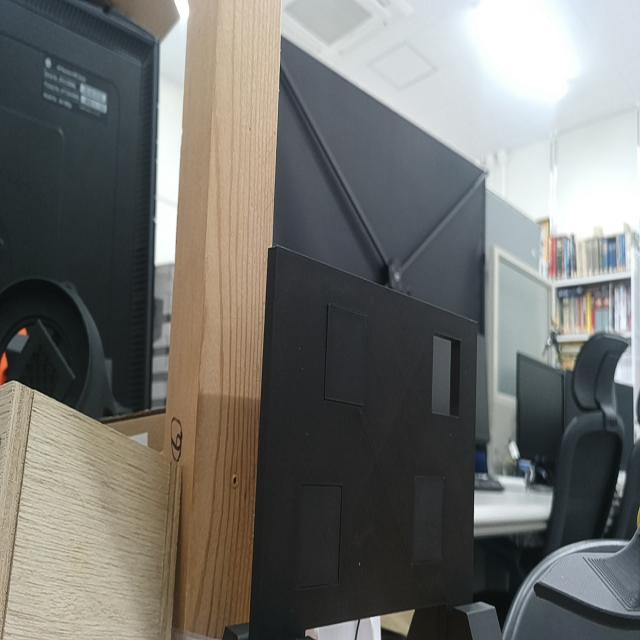Obstacle: (432, 333, 461, 417)
Wall: (256, 246, 478, 634)
